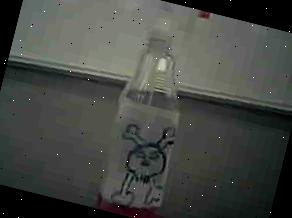hazard: (79, 0, 220, 218)
